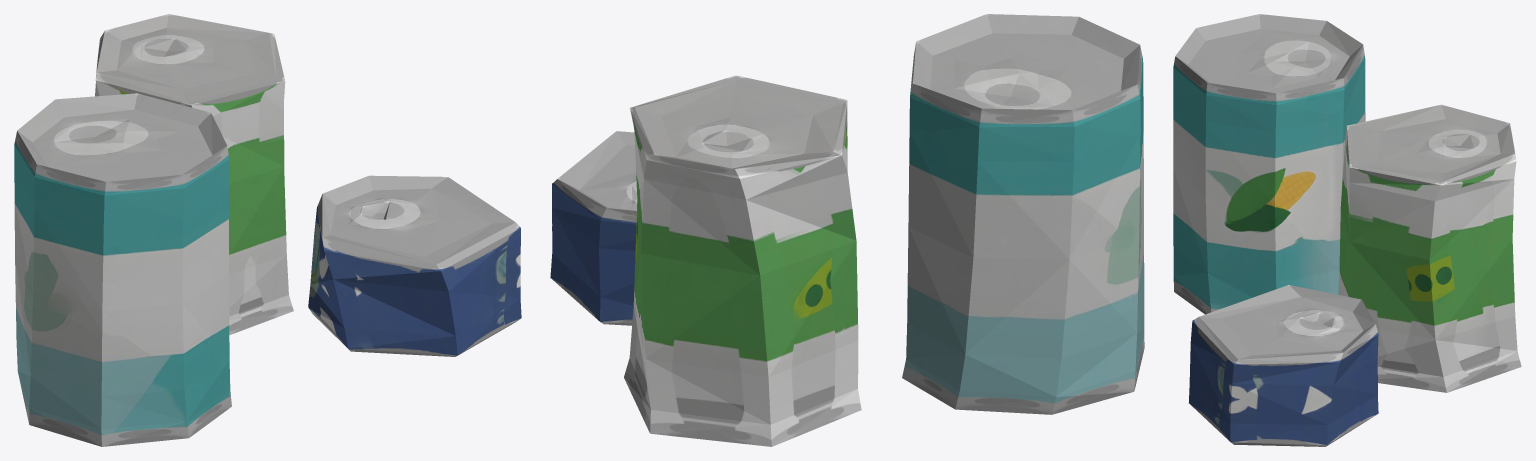
File: food.obj
3 views of the same model, side by side, from view 1: azimuth 30°, elevation 25°; view 2: azimuth 150°, elevation 25°; view 3: azimuth 270°, elevation 25° (orthographic). The views are drawn at different scales.
Visible parts, largest first — view 1: tripo_node_8716136c-ccf4-40d4-8629-dda8e89771df; view 2: tripo_node_8716136c-ccf4-40d4-8629-dda8e89771df; view 3: tripo_node_8716136c-ccf4-40d4-8629-dda8e89771df.
Boxes of the visible parts, x1,y1,x2,y2 form: tripo_node_8716136c-ccf4-40d4-8629-dda8e89771df: [14, 14, 521, 446]; tripo_node_8716136c-ccf4-40d4-8629-dda8e89771df: [550, 14, 1144, 446]; tripo_node_8716136c-ccf4-40d4-8629-dda8e89771df: [1173, 14, 1521, 446].
Bounding box in the file's own units: 0.9691 × 0.5185 × 0.6931.
